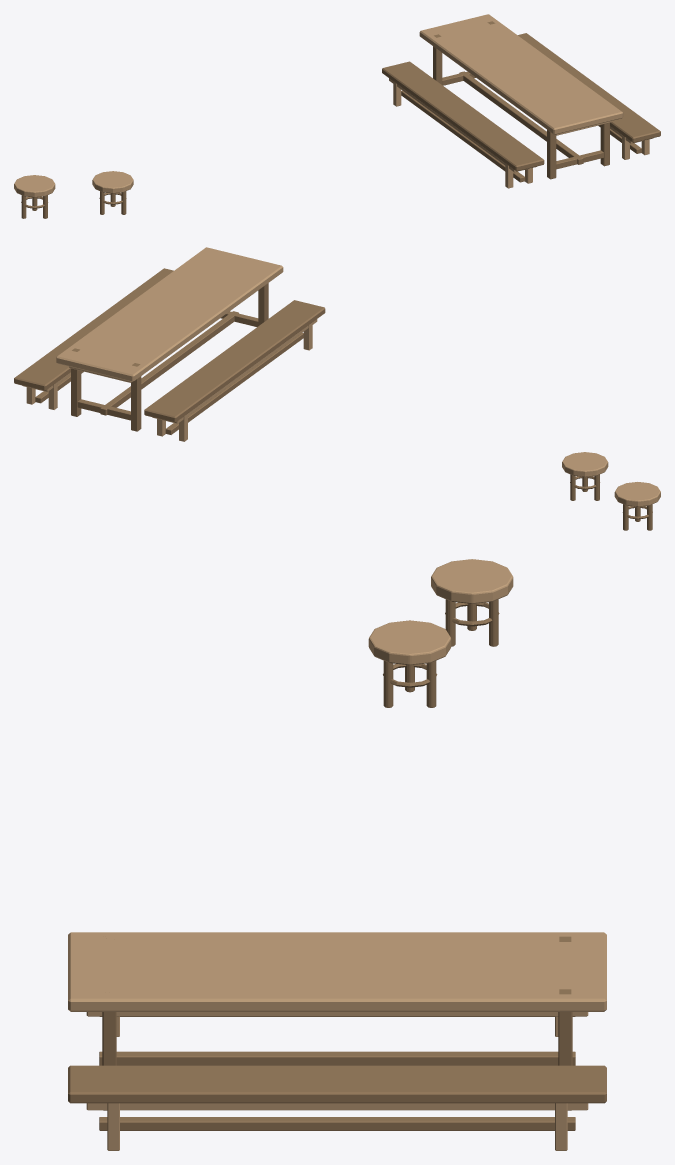
File: WartegFurniture.fbx
3 views of the same model, one above another, from view 1: azimuth 30°, elevation 25°; view 2: azimuth 150°, elevation 25°; view 3: azimuth 270°, elevation 25° (orthographic). The views are drawn at different scales.
Visible parts, largest first — view 1: TableTopLong, BenchEastTop, BenchWestTop, TableStretcher, BenchEastStretcher, StoolSeat_0, StoolSeat_1, TableLeg_+0.30_-1.10, BenchEastApron, TableLeg_-0.30_-1.10, TableCrossStretcher_-2.50, TableLeg_+0.30_+1.10; view 2: TableTopLong, BenchEastTop, BenchWestTop, TableStretcher, StoolSeat_0, StoolSeat_1, BenchEastStretcher, TableLeg_+0.30_+1.10, TableLeg_-0.30_+1.10, BenchEastApron, TableCrossStretcher_-0.30; view 3: TableTopLong, BenchWestTop, TableStretcher, BenchWestStretcher, BenchWestApron, StoolSeat_0, StoolSeat_1, TableApronLong, TableLeg_-0.30_+1.10.
Boxes of the visible parts, <box> form: TableTopLong: <box>419,14,623,134</box>; BenchEastTop: <box>382,61,544,171</box>; BenchWestTop: <box>518,33,660,142</box>; TableStretcher: <box>459,71,583,164</box>; BenchEastStretcher: <box>401,90,525,182</box>; StoolSeat_0: <box>92,171,133,193</box>; StoolSeat_1: <box>14,175,55,197</box>; TableLeg_+0.30_-1.10: <box>547,130,556,179</box>; BenchEastApron: <box>389,78,536,172</box>; TableLeg_-0.30_-1.10: <box>600,123,609,166</box>; TableCrossStretcher_-2.50: <box>556,150,603,169</box>; TableLeg_+0.30_+1.10: <box>433,34,442,84</box>; TableTopLong: <box>56,247,283,381</box>; BenchEastTop: <box>144,300,325,422</box>; BenchWestTop: <box>14,268,173,390</box>; TableStretcher: <box>100,311,238,415</box>; StoolSeat_0: <box>562,452,608,476</box>; StoolSeat_1: <box>614,482,660,506</box>; BenchEastStretcher: <box>165,332,303,434</box>; TableLeg_+0.30_+1.10: <box>131,363,141,431</box>; TableLeg_-0.30_+1.10: <box>71,348,81,416</box>; BenchEastApron: <box>152,319,317,423</box>; TableCrossStretcher_-0.30: <box>77,399,130,420</box>; TableTopLong: <box>68,932,606,1011</box>; BenchWestTop: <box>68,1065,606,1103</box>; TableStretcher: <box>99,1051,575,1065</box>; BenchWestStretcher: <box>99,1117,575,1130</box>; BenchWestApron: <box>86,1103,588,1110</box>; StoolSeat_0: <box>368,620,451,665</box>; StoolSeat_1: <box>431,559,513,603</box>; TableApronLong: <box>86,1012,588,1016</box>; TableLeg_-0.30_+1.10: <box>558,989,572,1110</box>.
Size of the model in its own units: 6.06 by 0.62 by 2.6.
